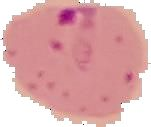parasitized: (8, 7, 141, 118), (44, 3, 107, 74)
